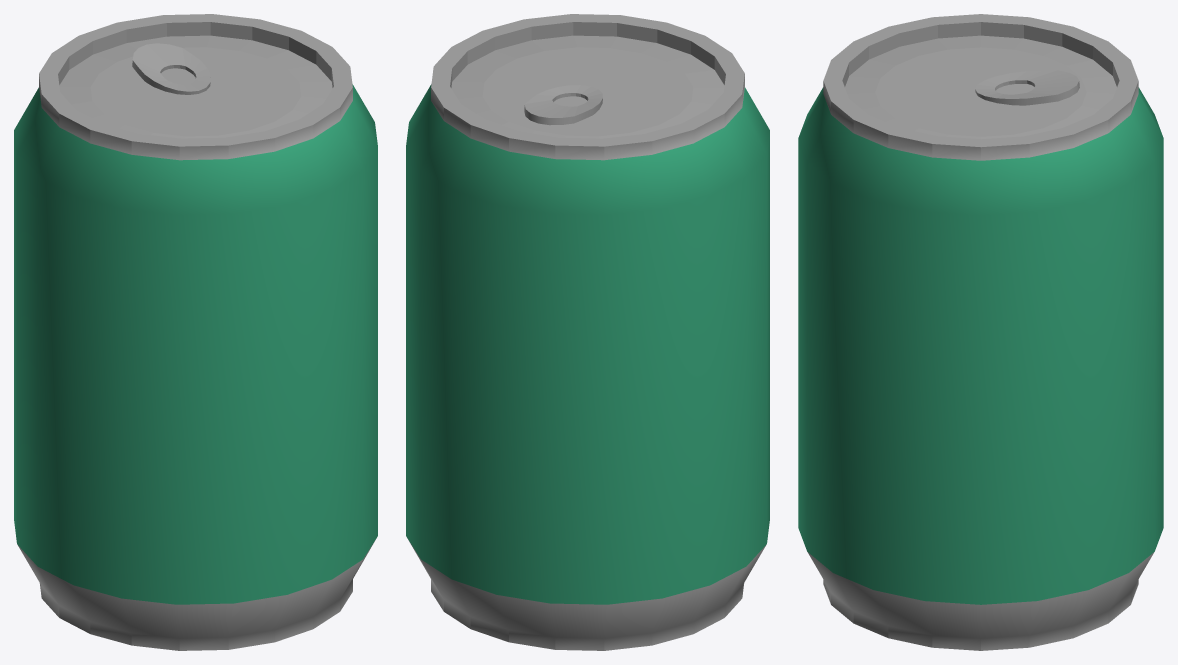
Rendered from DRINK CAN green.fbx.
3 renders of one model, left to right at view 1: azimuth 30°, elevation 25°; view 2: azimuth 150°, elevation 25°; view 3: azimuth 270°, elevation 25°, orthographic.
Parts seen in each view (by area): view 1: pCylinder1, pCylinder2; view 2: pCylinder1, pCylinder2; view 3: pCylinder1, pCylinder2.
Part boxes in pixels (x1,y1,x2,y2): pCylinder1: [14, 14, 377, 650]; pCylinder2: [132, 43, 210, 94]; pCylinder1: [406, 14, 769, 650]; pCylinder2: [524, 85, 602, 125]; pCylinder1: [798, 14, 1163, 650]; pCylinder2: [975, 70, 1079, 105].
Bounding box in the file's own units: 0.02 × 0.0304 × 0.02.
